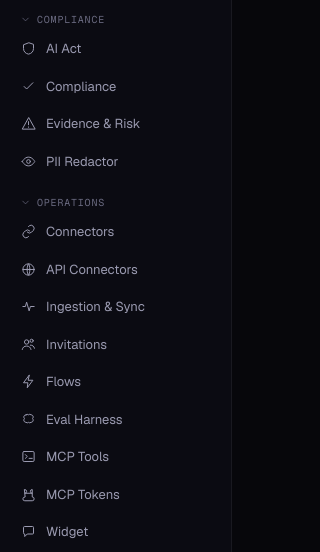
Scenario: Sidebar (unified rail) › collapsing a non-active group hides its entries; re-expanding shows them
(page scrolled)
Expected: the button with test id "sidebar-nav-flows" is shown, 10,364 -> 221,400
Click the button with test id "sidebar-group-operations" at (116, 202), box 10,189 -> 221,214
(page scrolled)
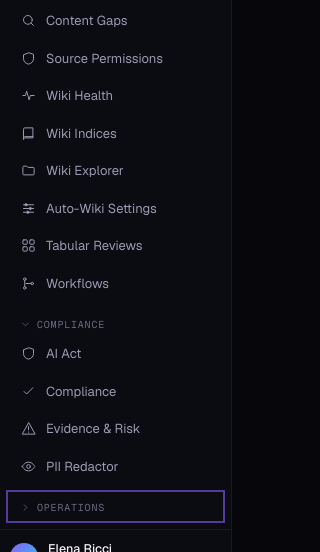
Expected: the button with test id "sidebar-nav-flows" is gone
Click the button with test id "sidebar-group-operations" at (116, 506), box 10,494 -> 221,519
(page scrolled)
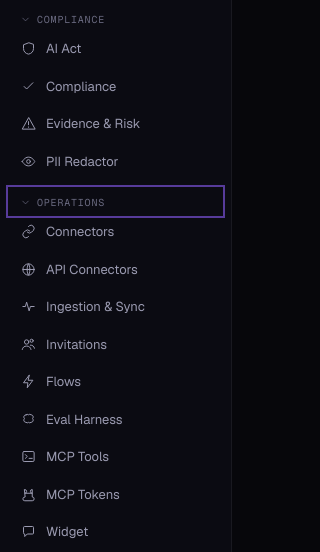
Expected: the button with test id "sidebar-nav-flows" is shown, 10,364 -> 221,400
